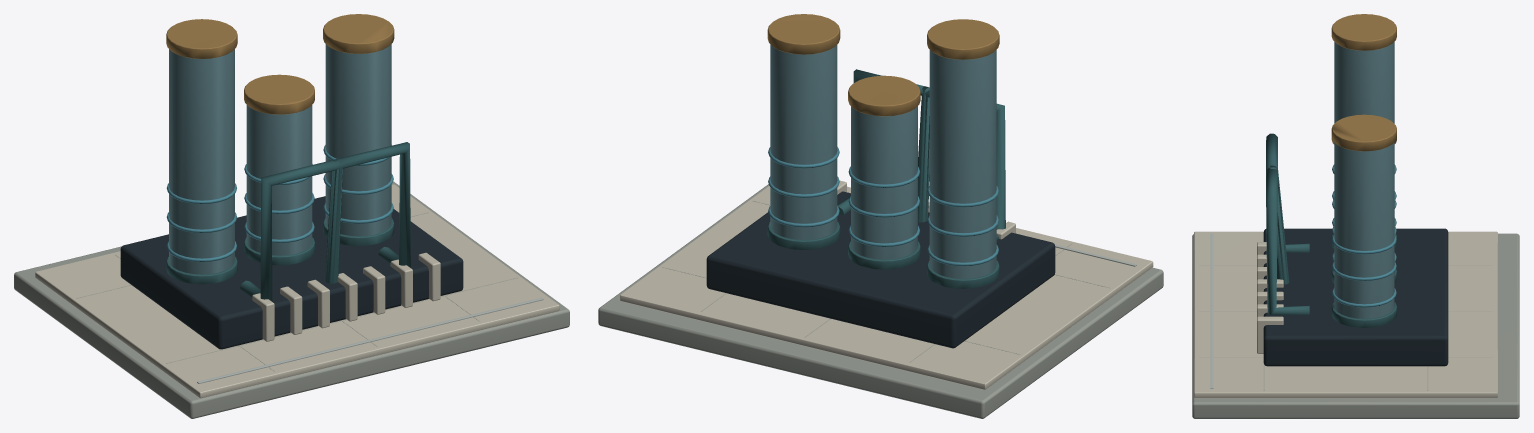
Rendered from idea-69110475.glb.
3 renders of one model, left to right at view 1: azimuth 30°, elevation 25°; view 2: azimuth 150°, elevation 25°; view 3: azimuth 270°, elevation 25°, orthographic. The views are drawn at different scales.
Parts seen in each view (by area): view 1: Transparent Cooling Stack; view 2: Transparent Cooling Stack; view 3: Transparent Cooling Stack.
Part boxes in pixels (<box>): Transparent Cooling Stack: <box>14,14,569,418</box>; Transparent Cooling Stack: <box>598,14,1163,418</box>; Transparent Cooling Stack: <box>1192,14,1519,418</box>.
Size of the model in its own units: 4.8 by 3.54 by 3.9.
